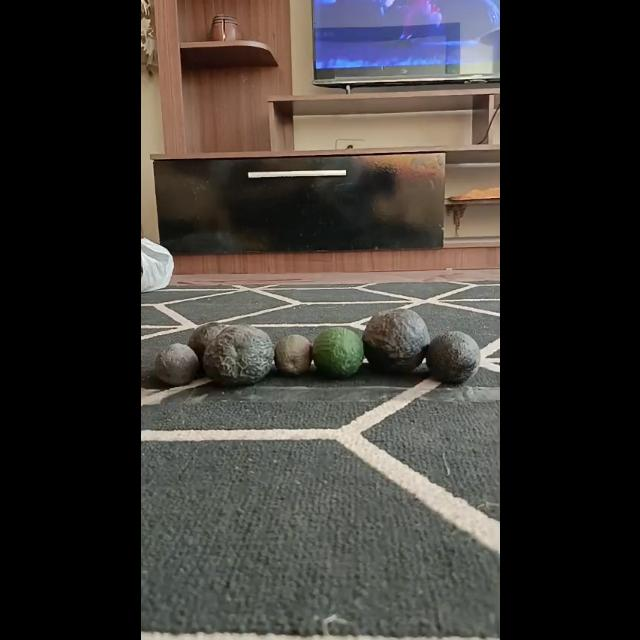Primera: (201, 324, 273, 386), (362, 308, 428, 374)
Segunda: (425, 330, 479, 384), (312, 327, 364, 378)
Tercera: (153, 344, 199, 386), (274, 334, 312, 374)
